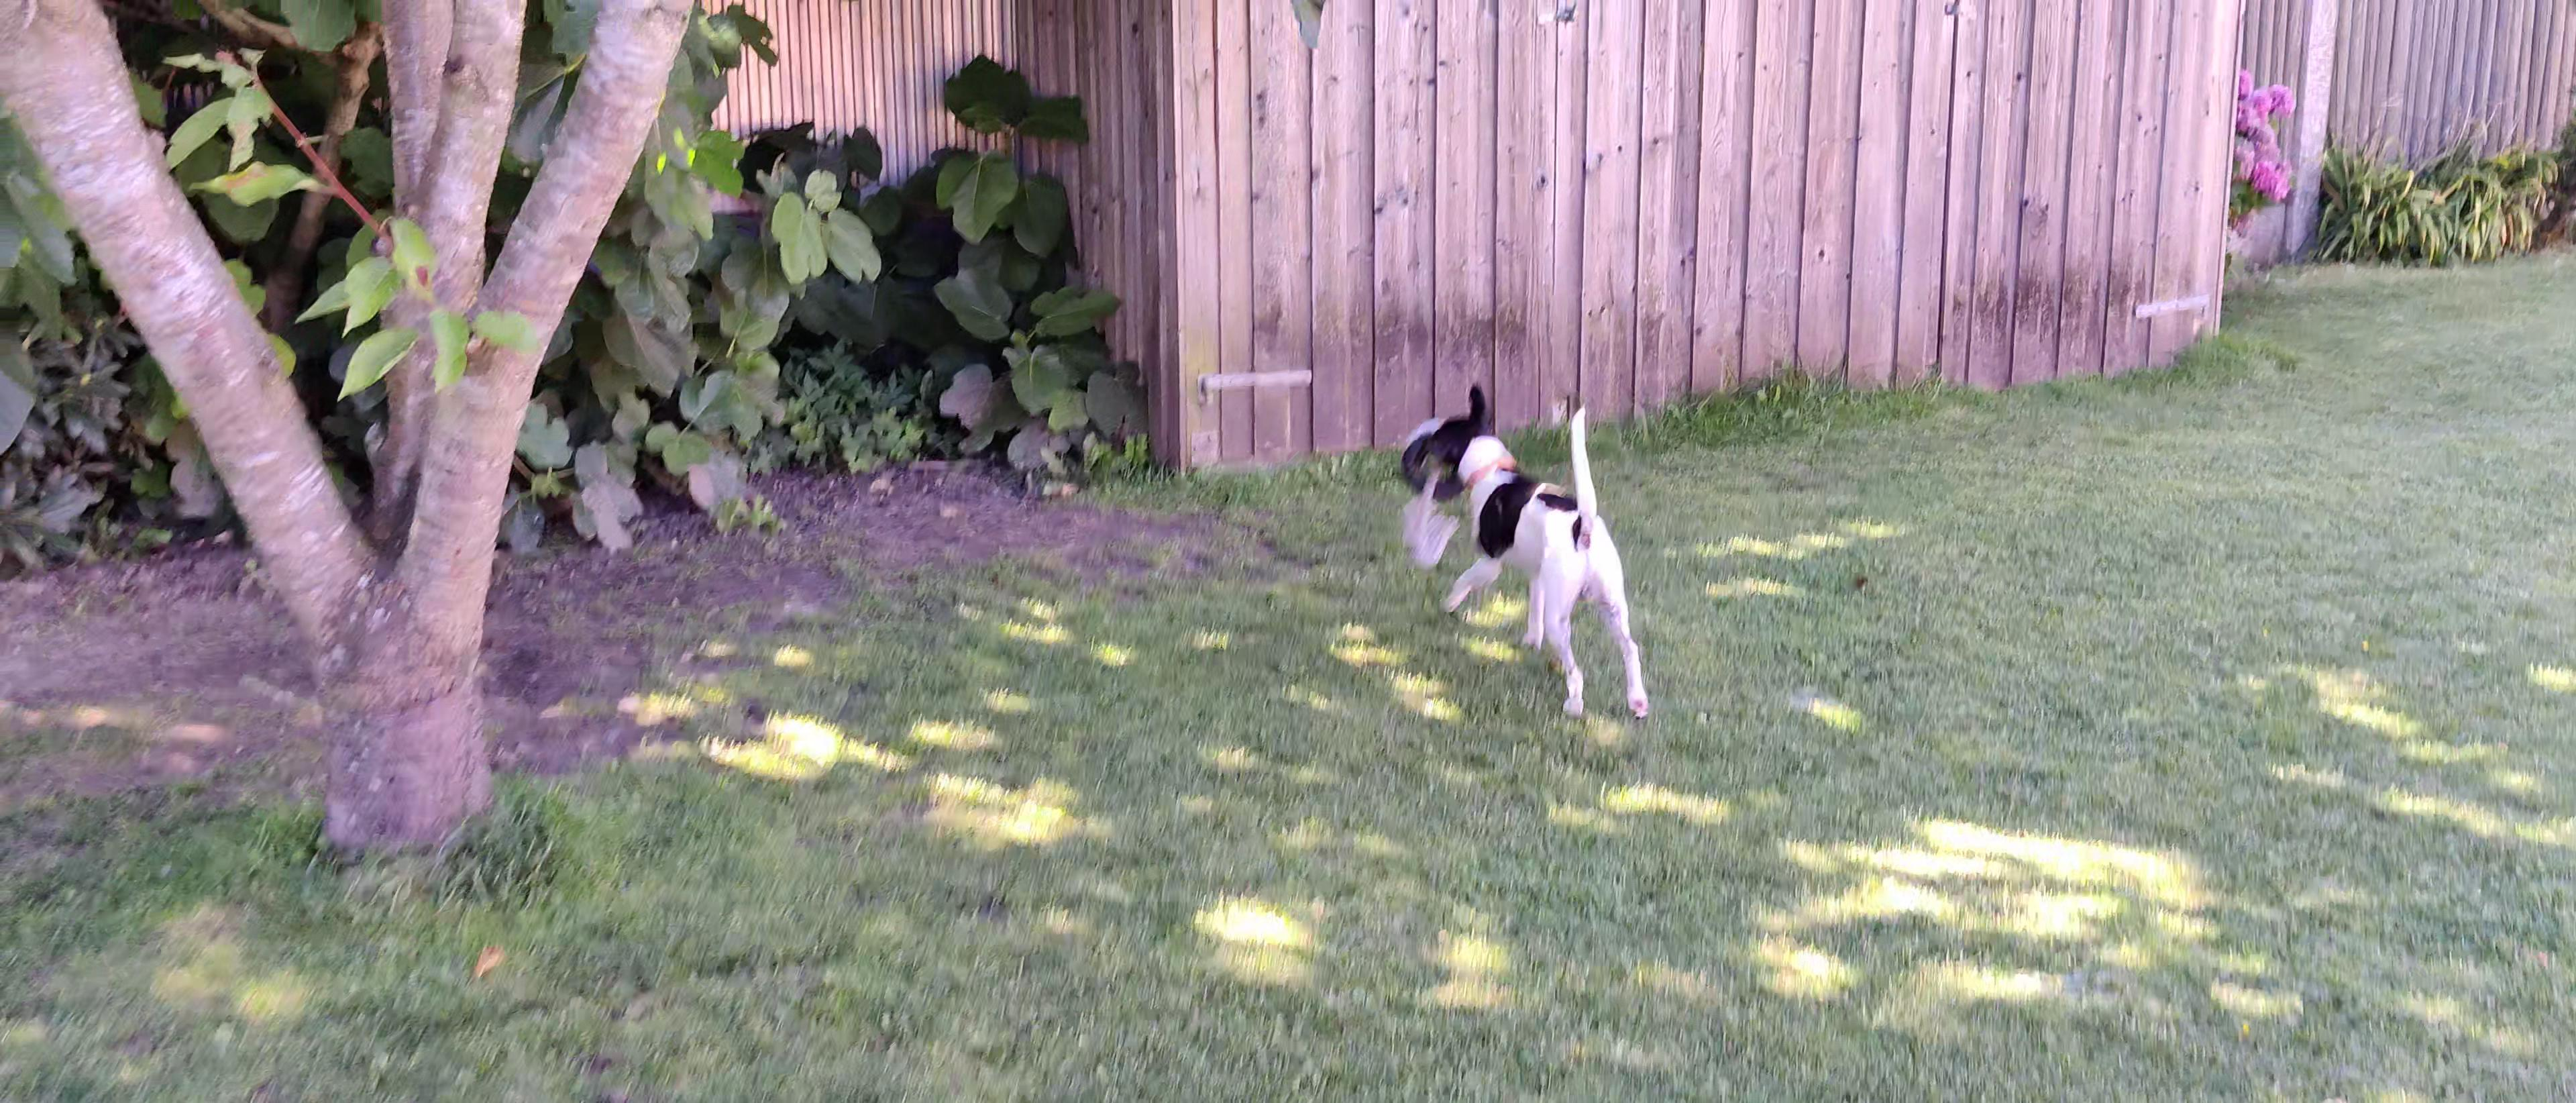Dog: (1410, 380, 1654, 723)
